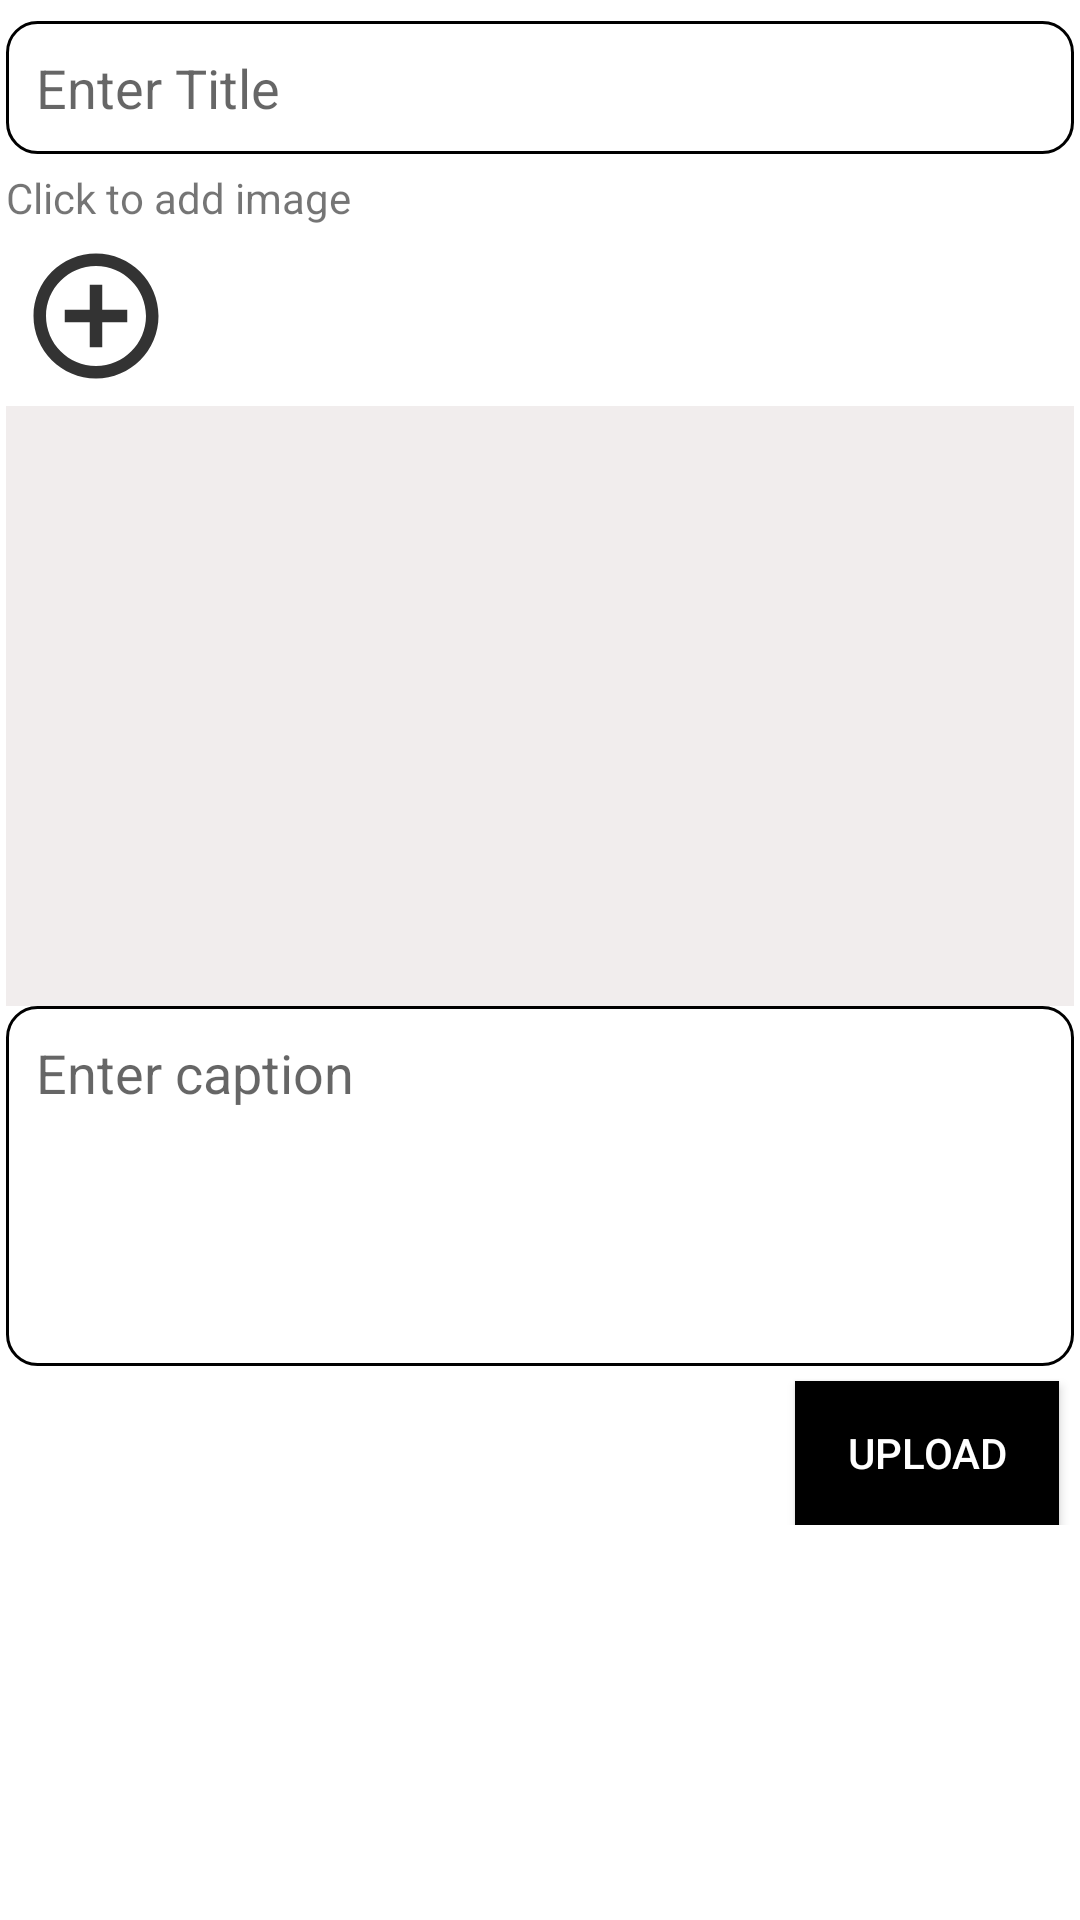

Where to tap for icons on this 1080px×1920px app screen, as (x,y):
addpost: (96,316)
